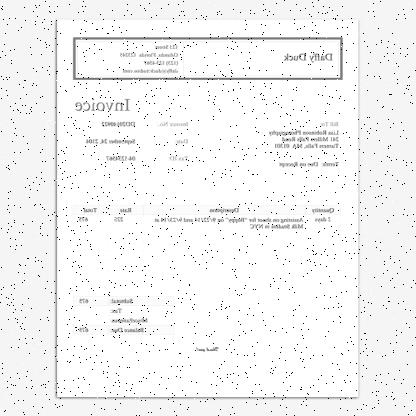Paragraph: (72, 94, 192, 164), (77, 296, 149, 335), (267, 120, 341, 150), (118, 43, 180, 76), (282, 51, 334, 64), (278, 160, 340, 168)
Table: (73, 205, 341, 231)
